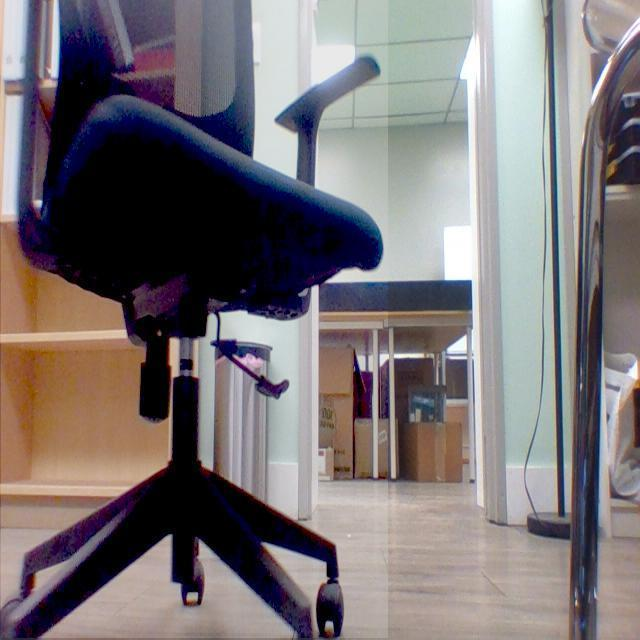chair: (0, 1, 379, 640)
